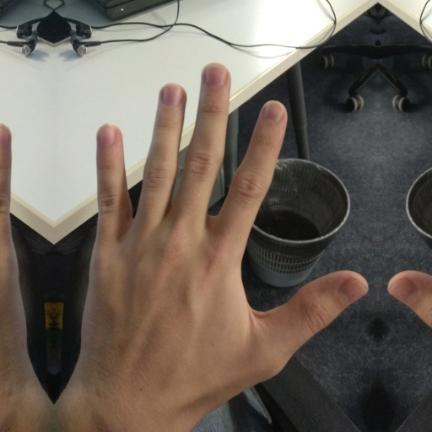Nail: (338, 278, 367, 303), (389, 278, 418, 303), (162, 84, 184, 105), (205, 65, 227, 86), (263, 102, 285, 122), (98, 123, 116, 147), (0, 123, 10, 147)
